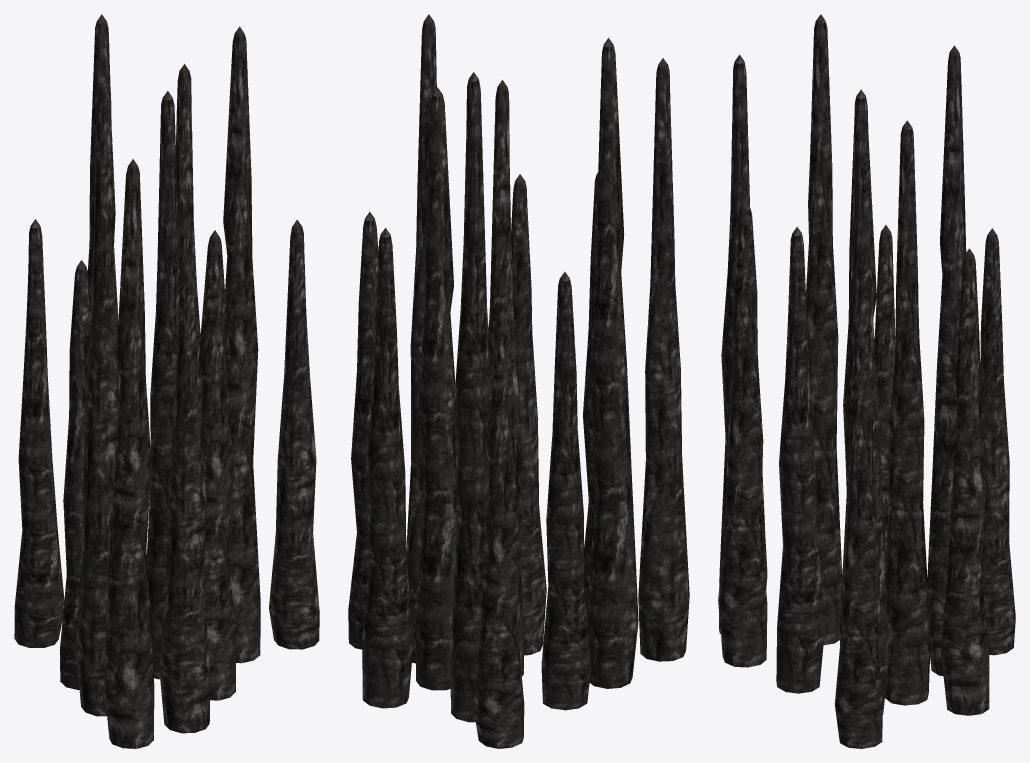
The model's file is Stalactite_collection_01.DAE.
The picture shows the model from 3 angles, left to right: view 1: azimuth 30°, elevation 25°; view 2: azimuth 150°, elevation 25°; view 3: azimuth 270°, elevation 25°; orthographic projection. The views are drawn at different scales.
Parts seen in each view (by area): view 1: Cylinder001; view 2: Cylinder001; view 3: Cylinder001.
Part boxes in pixels (left/top/right/bottom): Cylinder001: left=14, top=14, right=319, bottom=748; Cylinder001: left=348, top=14, right=689, bottom=748; Cylinder001: left=718, top=14, right=1015, bottom=748.
Bounding box in the file's own units: 0.1538 × 0.1489 × 0.3437.
